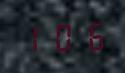one: (18, 21, 46, 53)
six: (77, 19, 105, 51)
zero: (48, 20, 76, 52)
